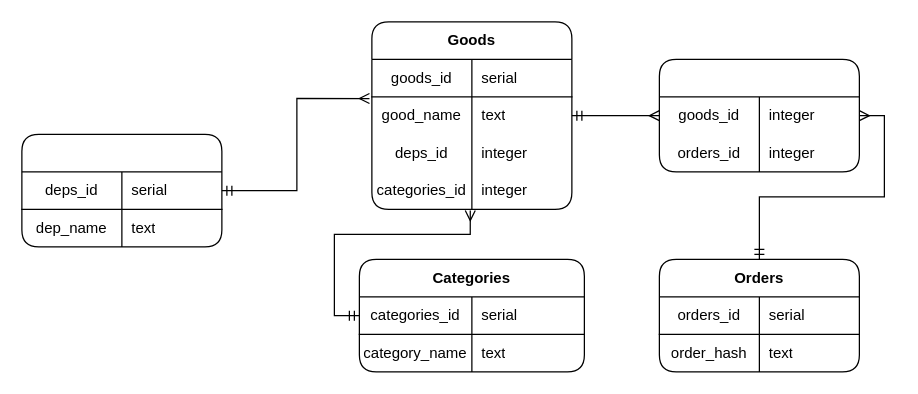
Image size: 918x394. Some labels were removed from this diagram. The box of each missing label's shape, as (x1, y1, x2, y2) in pixels:
Departments: (21, 133, 222, 247)
Goods/Orders: (658, 58, 859, 172)
